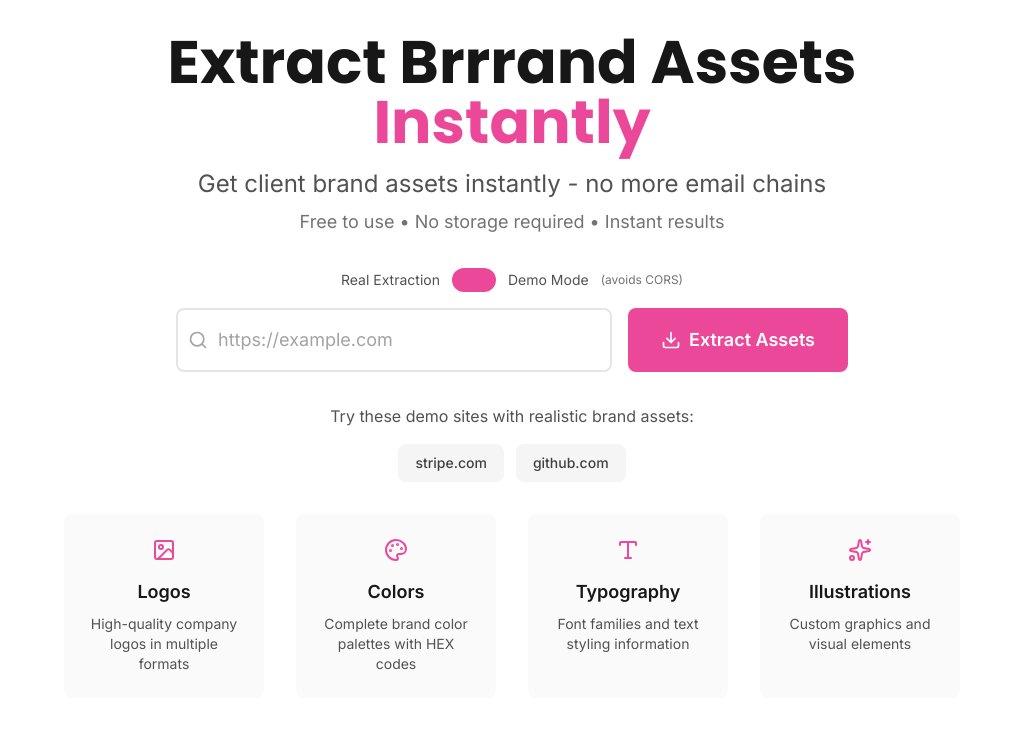
Scenario: LandingPage › should show validation error for invalid URL
The image size is (1024, 747).
Note: Enter invalid URL
Type "not-a-url" into the field named "website url" at (394,340), box [176,308,612,372]
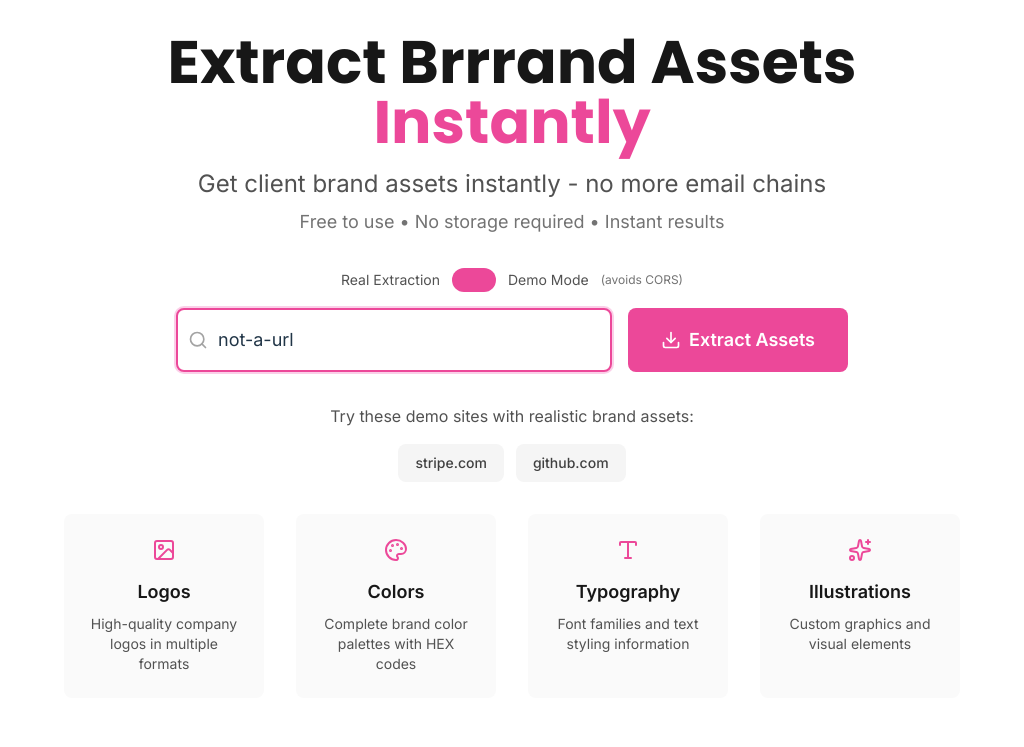
Click the button "Extract Assets" at (738,340), box [628,308,848,372]
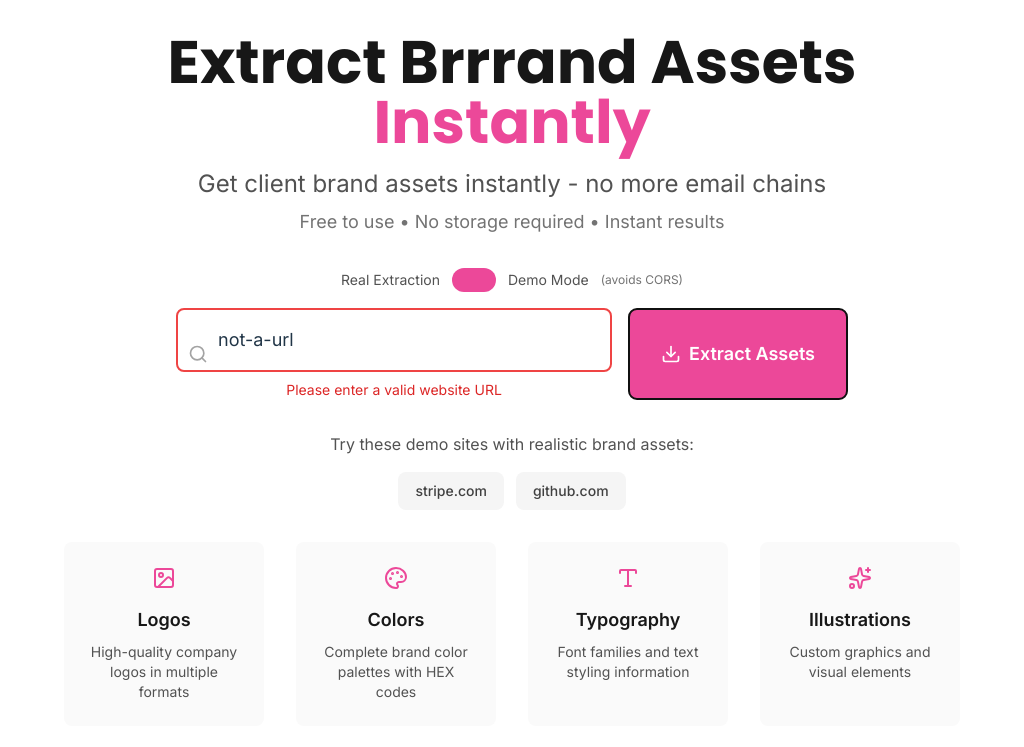
Now the message reads "Please enter a valid website URL", box [286,381,502,398]
